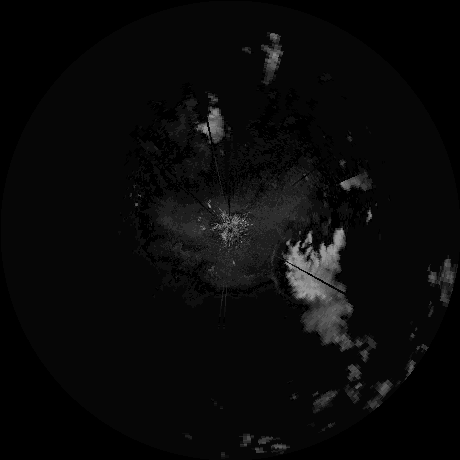frontgust: (268, 246, 281, 299)
